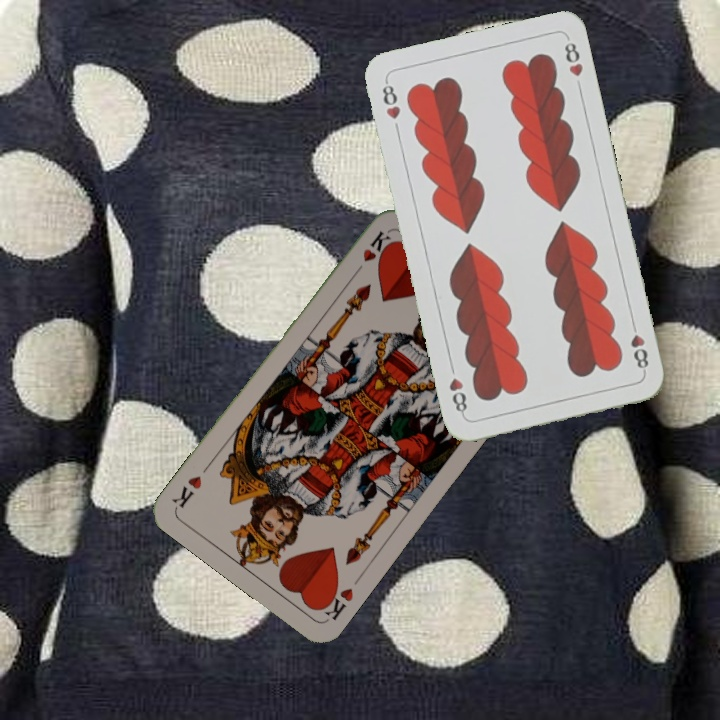H8: (626, 317, 651, 375), (378, 76, 403, 122)
HK: (348, 227, 393, 279), (314, 579, 356, 623)
